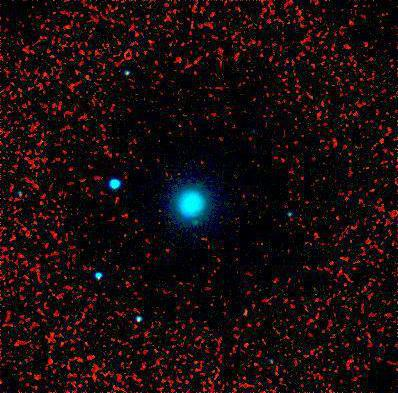star: (168, 202, 198, 232)
